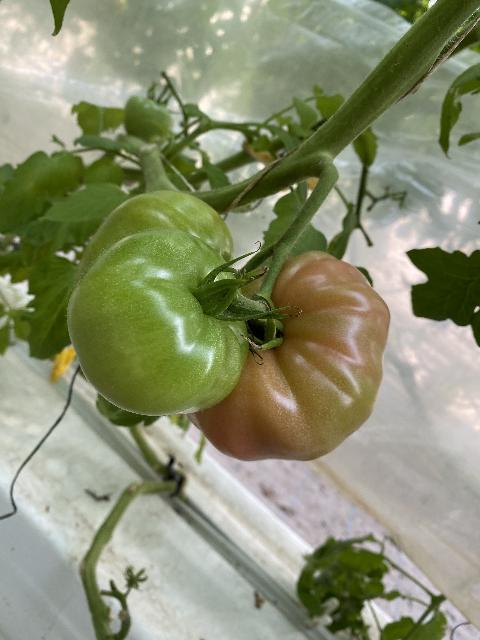b_green: (67, 227, 249, 417), (77, 190, 234, 284)
b_half_ripened: (186, 250, 391, 462)
